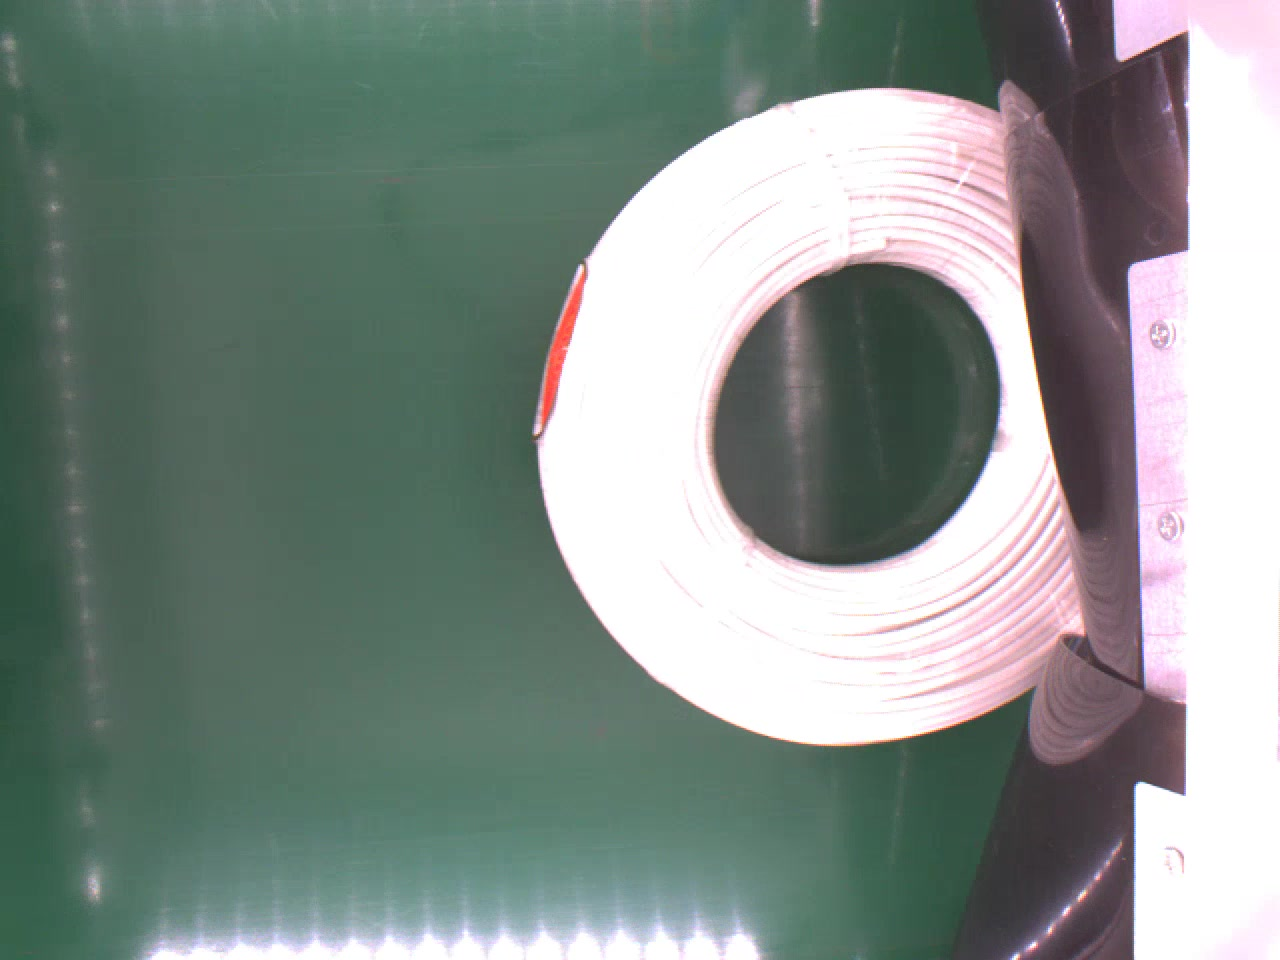white: (537, 87, 1087, 764)
